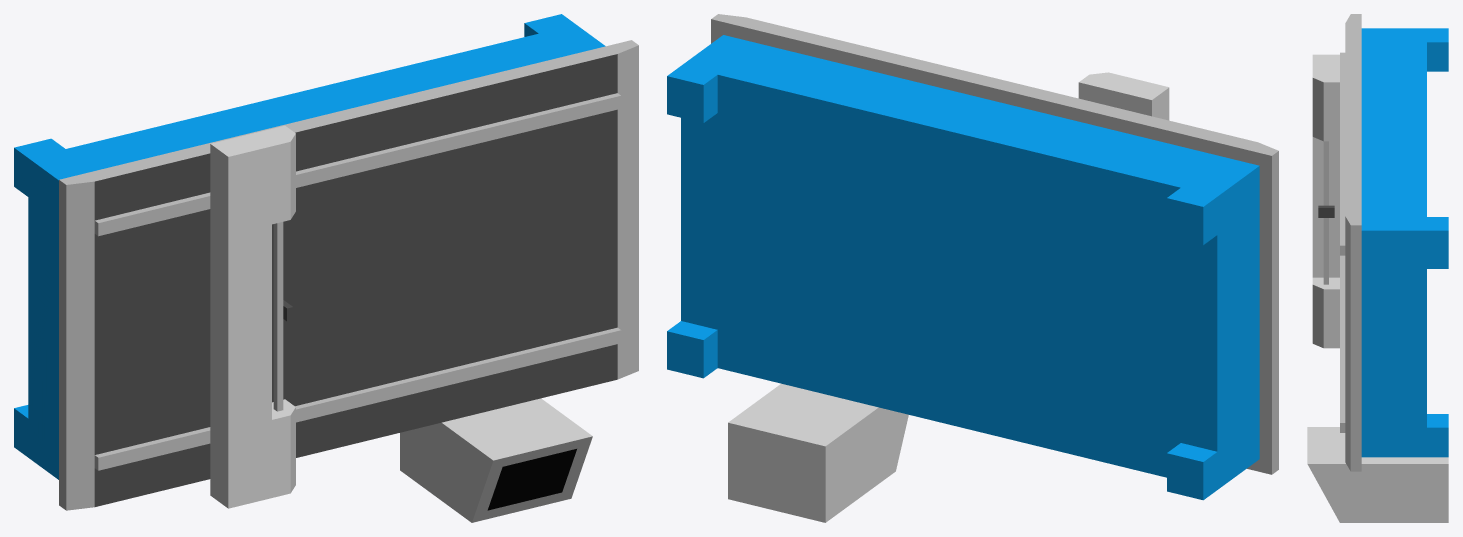
Rendered from cnc_cutting_machine_4_state_1.dae.
The picture shows the model from 3 angles, left to right: view 1: azimuth 30°, elevation 25°; view 2: azimuth 150°, elevation 25°; view 3: azimuth 270°, elevation 25°; orthographic projection. The views are drawn at different scales.
Visible parts, largest first — view 1: coords_ME_ID35_MA_material, coords_ME_ID19_MA_material_11, coords_ME_ID3_MA_material_6, coords_ME_ID27_MA_material_8, coords_ME_ID67_MA_material, coords_ME_ID61_MA_material, coords_ME_ID55_MA_material_8, coords_ME_ID47_MA_material_9, coords_ME_ID41_MA_material_11; view 2: coords_ME_ID3_MA_material_6, coords_ME_ID19_MA_material_11, coords_ME_ID55_MA_material_8, coords_ME_ID27_MA_material_8; view 3: coords_ME_ID3_MA_material_6, coords_ME_ID19_MA_material_11, coords_ME_ID55_MA_material_8, coords_ME_ID27_MA_material_8, coords_ME_ID41_MA_material_11, coords_ME_ID11_MA_material.
Boxes of the visible parts, x1=… form: coords_ME_ID35_MA_material: x1=94, y1=109, x2=617, y2=454; coords_ME_ID19_MA_material_11: x1=59, y1=40, x2=638, y2=510; coords_ME_ID3_MA_material_6: x1=14, y1=14, x2=605, y2=479; coords_ME_ID27_MA_material_8: x1=210, y1=125, x2=295, y2=508; coords_ME_ID67_MA_material: x1=94, y1=54, x2=617, y2=220; coords_ME_ID61_MA_material: x1=94, y1=344, x2=617, y2=506; coords_ME_ID55_MA_material_8: x1=400, y1=398, x2=592, y2=522; coords_ME_ID47_MA_material_9: x1=487, y1=449, x2=576, y2=510; coords_ME_ID41_MA_material_11: x1=273, y1=222, x2=283, y2=411; coords_ME_ID3_MA_material_6: x1=667, y1=35, x2=1259, y2=500; coords_ME_ID19_MA_material_11: x1=711, y1=14, x2=1278, y2=474; coords_ME_ID55_MA_material_8: x1=728, y1=383, x2=908, y2=522; coords_ME_ID27_MA_material_8: x1=1078, y1=72, x2=1169, y2=120; coords_ME_ID3_MA_material_6: x1=1361, y1=28, x2=1448, y2=457; coords_ME_ID19_MA_material_11: x1=1340, y1=14, x2=1361, y2=471; coords_ME_ID55_MA_material_8: x1=1307, y1=427, x2=1448, y2=522; coords_ME_ID27_MA_material_8: x1=1312, y1=54, x2=1339, y2=348; coords_ME_ID41_MA_material_11: x1=1323, y1=141, x2=1328, y2=284; coords_ME_ID11_MA_material: x1=1318, y1=205, x2=1334, y2=217.
Size of the model in its own units: 47.09 by 34.8 by 13.31.
